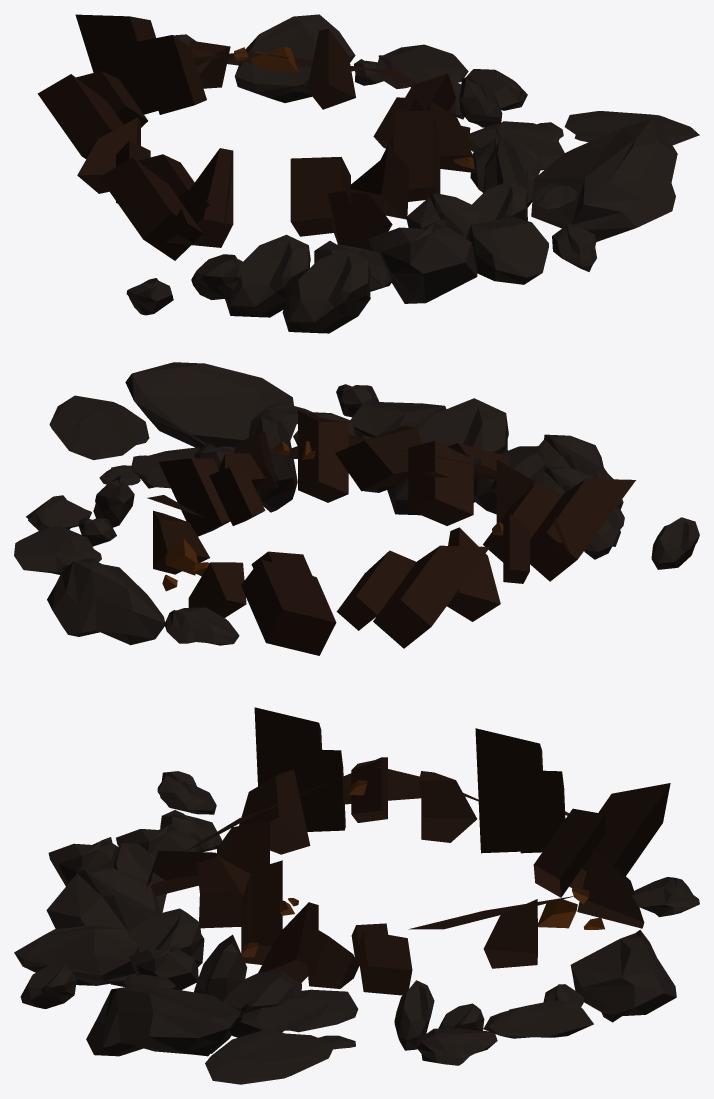
File: Nest.fbx
3 renders of one model, top to bottom at view 1: azimuth 30°, elevation 25°; view 2: azimuth 150°, elevation 25°; view 3: azimuth 270°, elevation 25°, orthographic. The views are drawn at different scales.
Visible parts, largest first — view 1: Nest; view 2: Nest; view 3: Nest.
Boxes of the visible parts, bbox=[...] form: Nest: bbox=[37, 14, 699, 333]; Nest: bbox=[14, 362, 699, 655]; Nest: bbox=[14, 707, 699, 1084].
Bounding box in the file's own units: 29.16 × 6.46 × 26.95.
